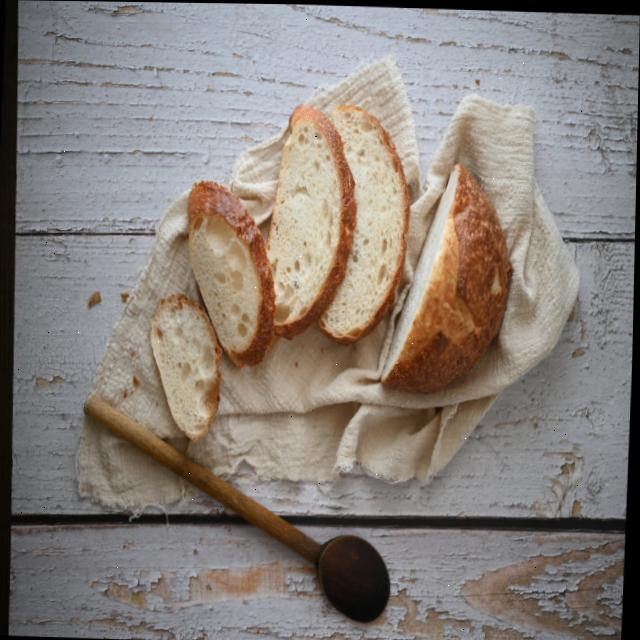Bread: (383, 162, 513, 390), (321, 104, 410, 343), (267, 116, 343, 334), (188, 181, 277, 366), (151, 293, 223, 440)
